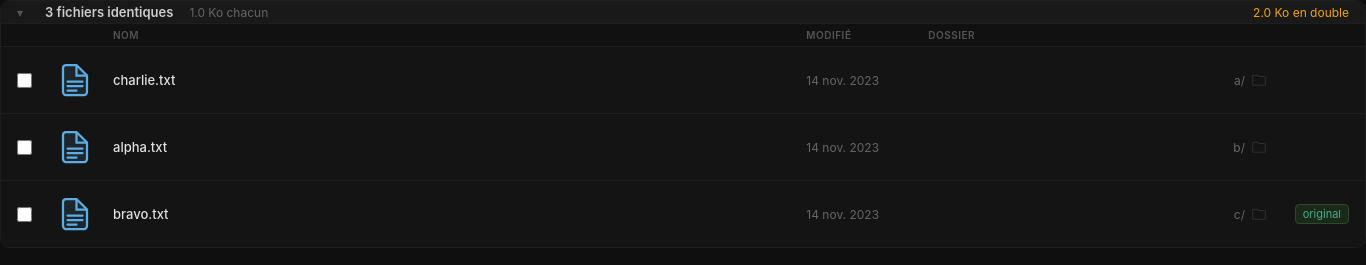
K - tri des colonnes GroupCard › indicateur visible apres premier clic sur Nom
This screenshot has width=1366, height=265.
Click the text with test id "sort-name": (126, 35) [113, 29, 139, 41]
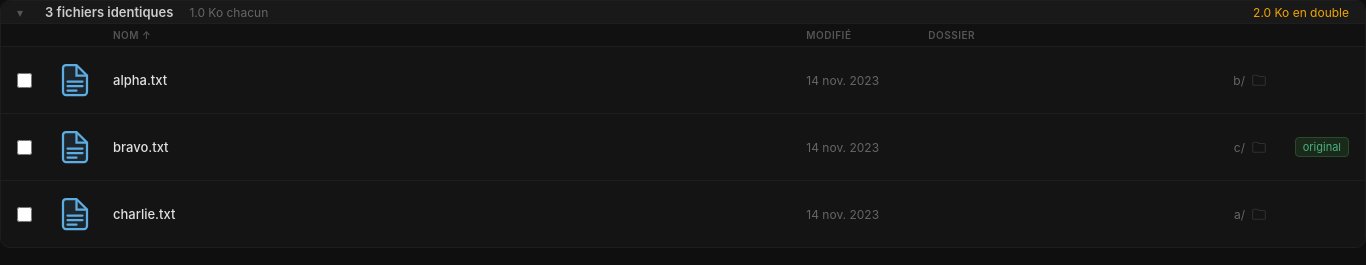
Result: the text "↑" is shown at [142, 30, 151, 40]
